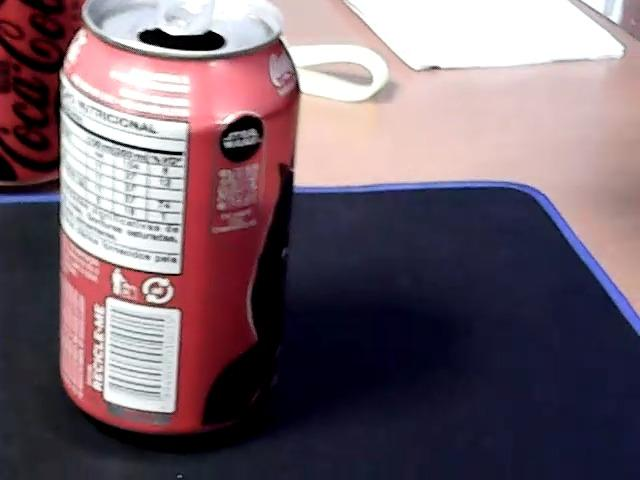coke: (59, 0, 307, 441), (0, 0, 83, 181)
